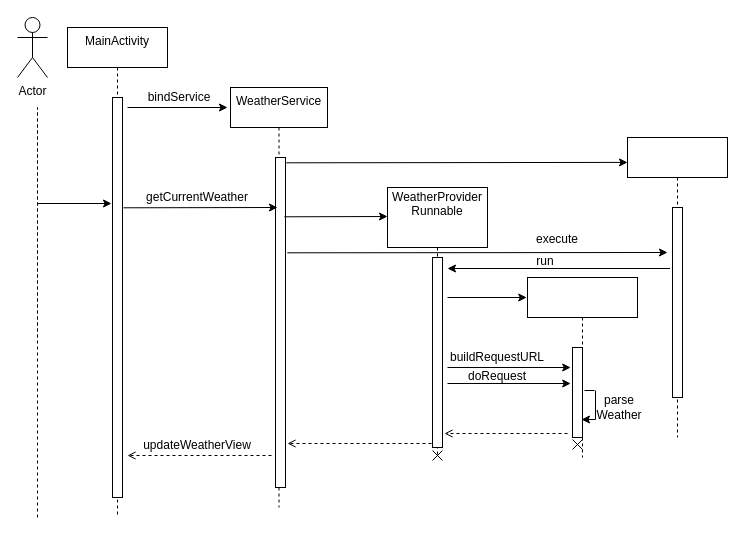
This 745x536 diagram has some shape labels left out. Here are the shapes that lost their labels. From the top down, the box of each, then its label:
(626, 136, 728, 438): ExecutorService
(526, 276, 638, 458): WeatherInfoProvider
